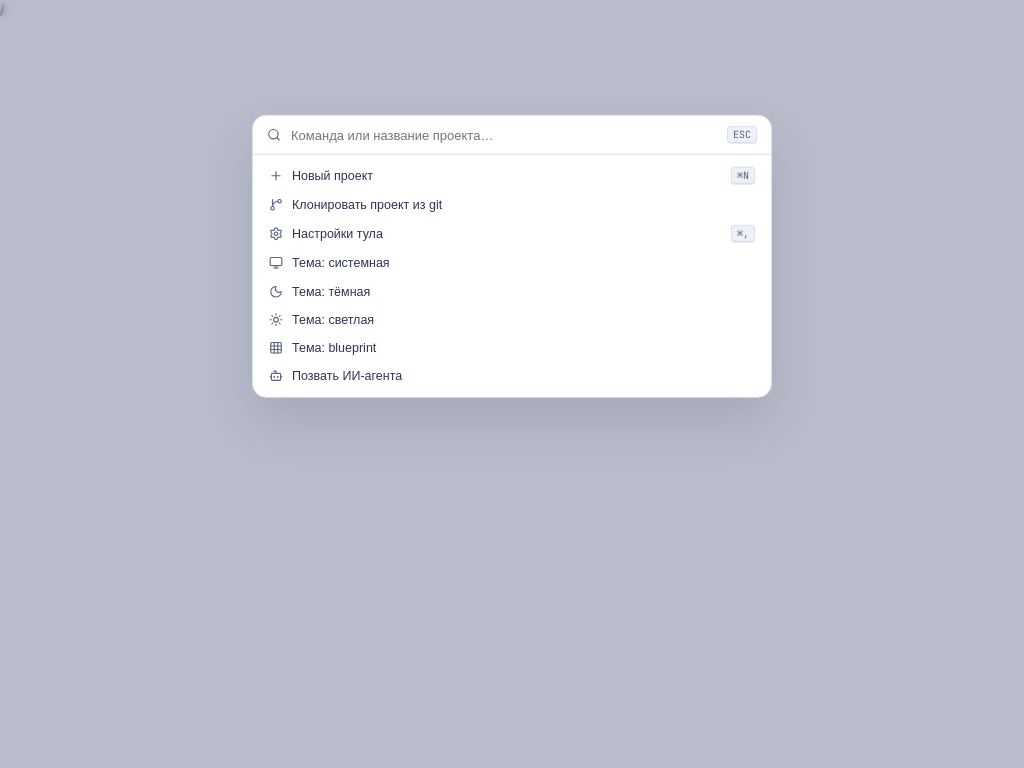
it: палитра команд: клонирование из git › находит команду по названию и по части слова
The width and height of the screenshot is (1024, 768).
Expected: the button "Клонировать проект из git" is shown, [259,191,765,219]
Type "клонир" into the field.
click(504, 135); type("клонир")  # box [291,127,717,142]
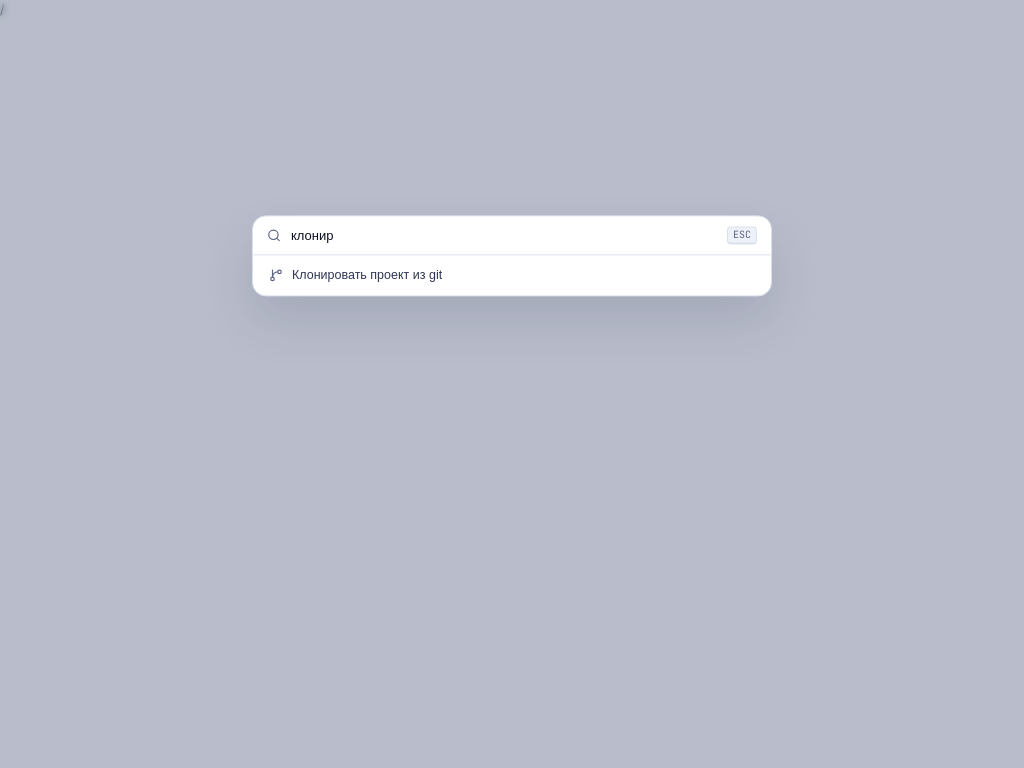
Expected: the button "Клонировать проект из git" is shown, [259,261,765,290]
Result: the button "Настройки" is gone
